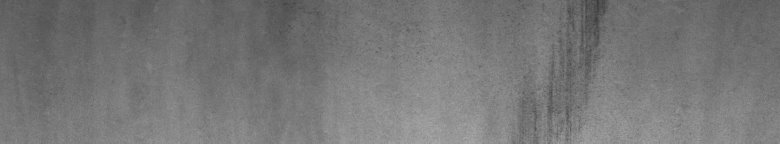ka: (526, 4, 607, 136)
